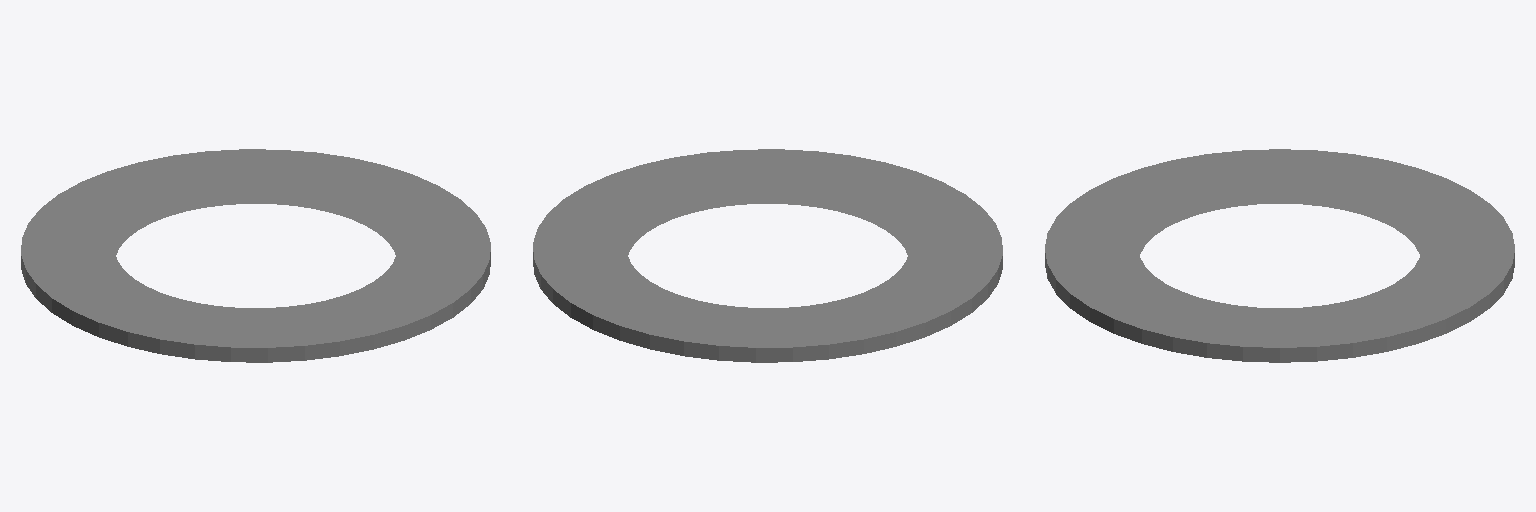
The model's file is floor_static.obj.
3 views of the same model, side by side, from view 1: azimuth 30°, elevation 25°; view 2: azimuth 150°, elevation 25°; view 3: azimuth 270°, elevation 25° (orthographic).
Parts seen in each view (by area): view 1: pCylinder5; view 2: pCylinder5; view 3: pCylinder5.
Boxes of the visible parts, x1,y1,x2,y2 form: pCylinder5: [21, 149, 490, 362]; pCylinder5: [533, 149, 1002, 362]; pCylinder5: [1045, 149, 1514, 362].
Size of the model in its own units: 14.4 by 0.5 by 14.4.